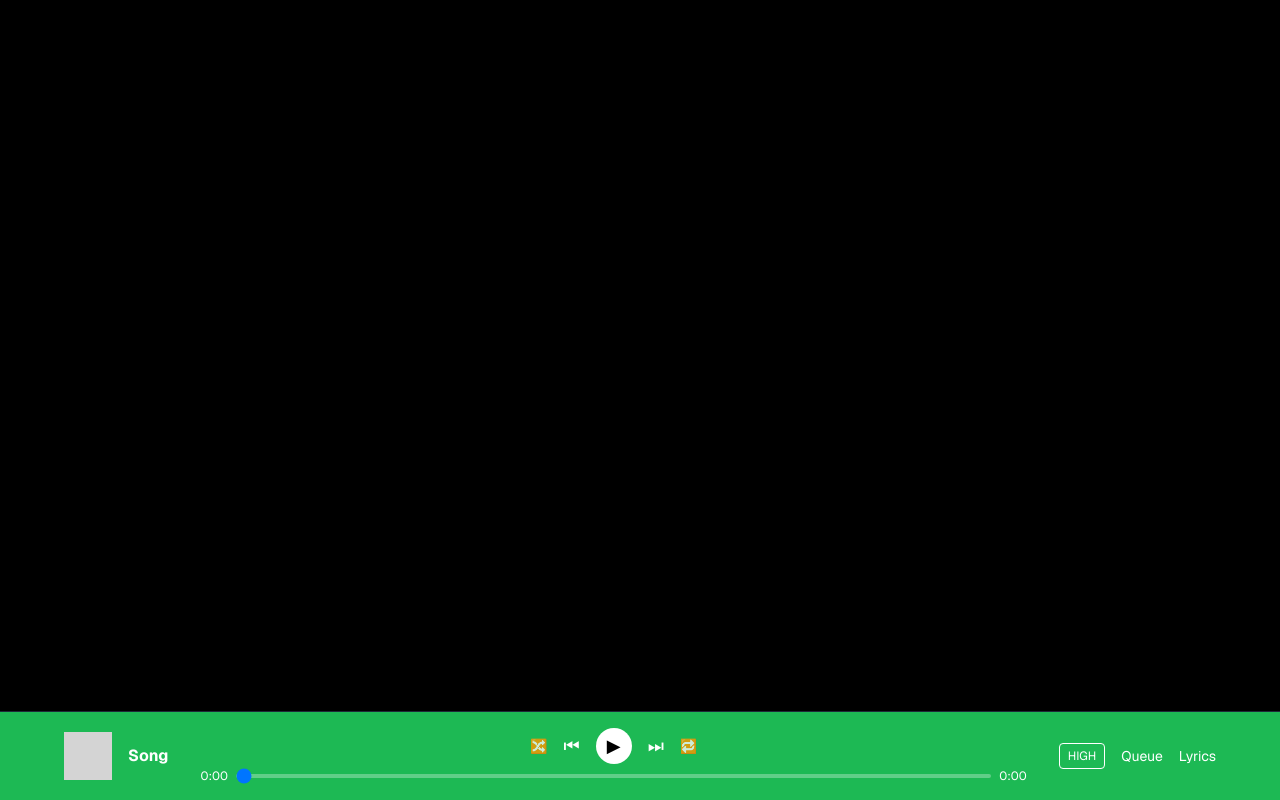
Test: Player › cycles repeat mode off -> all -> one -> off
Click the button named "Repeat off": (689,746) [680,736,697,756]
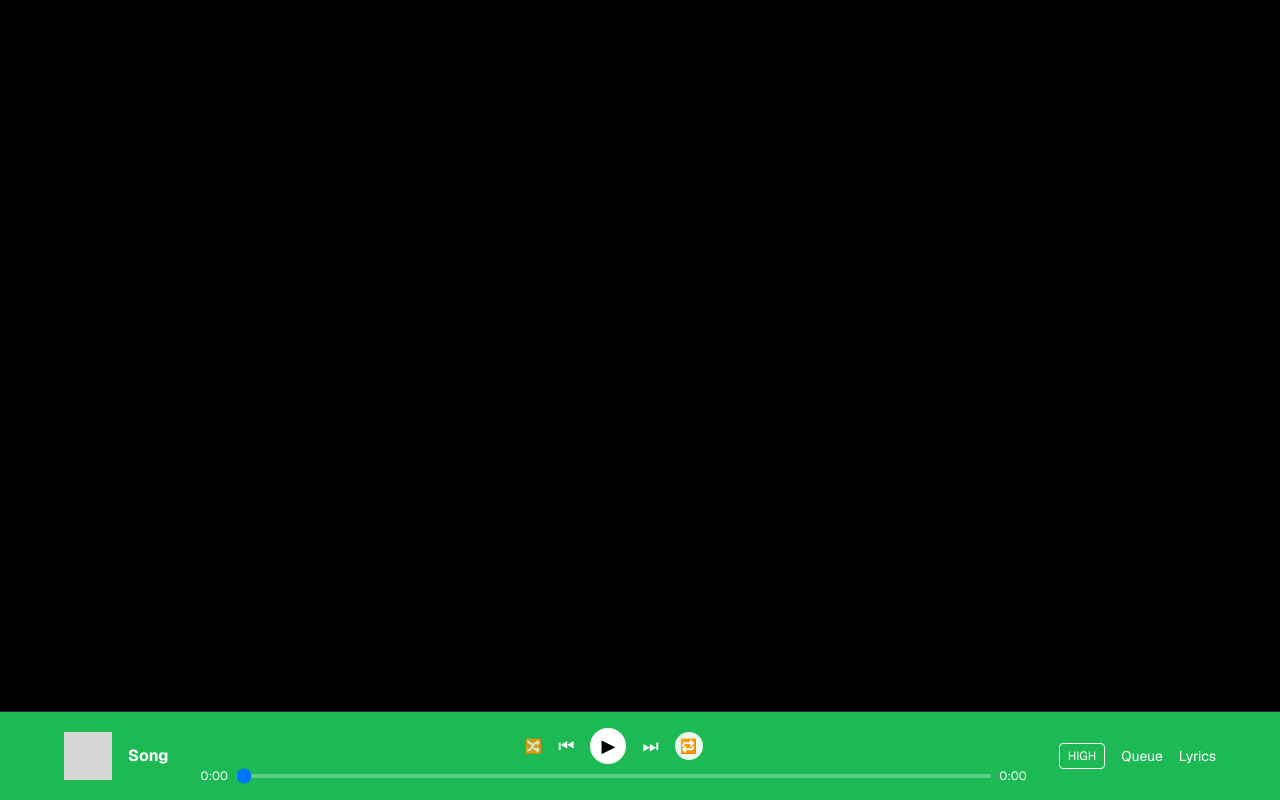
Result: the button named "Repeat all" is shown
Click the button named "Repeat all": (689,746) [675,732,703,760]
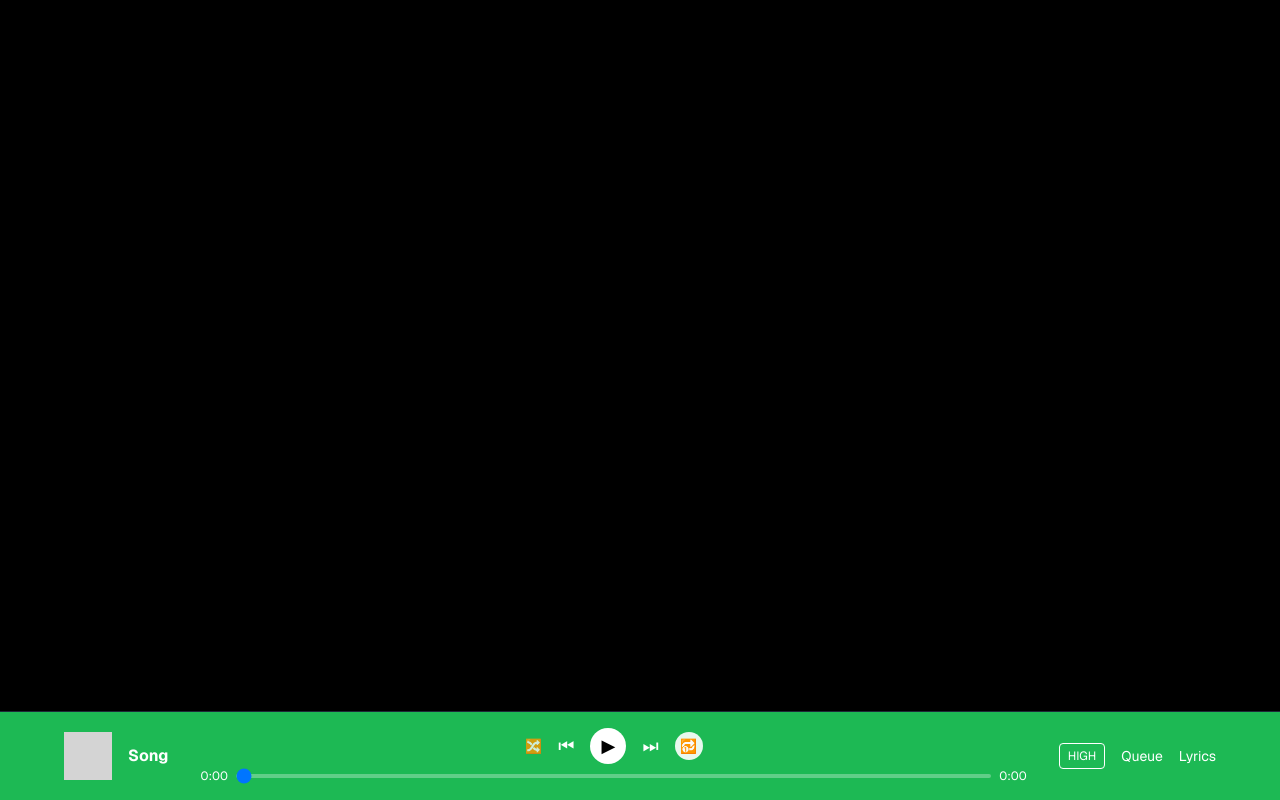
Result: the button named "Repeat one" is shown at [675,732,703,760]
